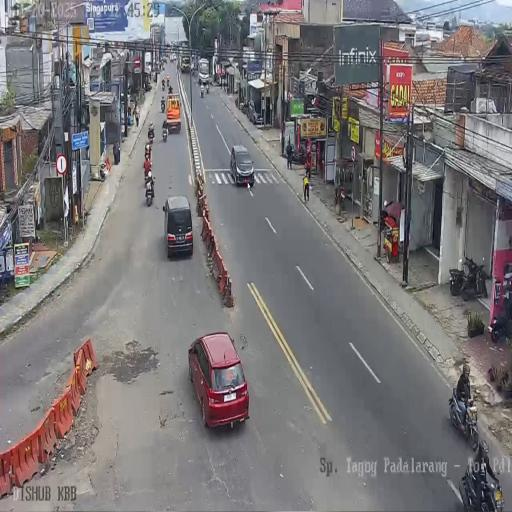3: (166, 93, 181, 134), (198, 58, 210, 84), (180, 53, 190, 74), (144, 51, 152, 77)
car: (187, 330, 250, 429), (161, 195, 192, 257), (230, 144, 255, 187), (247, 100, 263, 125), (170, 52, 176, 62), (161, 55, 167, 64)
truck: (450, 386, 479, 446), (461, 253, 487, 300), (488, 304, 510, 342), (286, 139, 306, 165), (449, 266, 465, 296), (144, 172, 155, 205), (240, 99, 250, 116), (162, 123, 168, 142), (160, 97, 166, 112), (148, 131, 154, 146), (200, 84, 204, 98), (161, 78, 165, 91), (158, 61, 162, 73), (153, 72, 157, 83), (191, 64, 195, 75), (168, 84, 172, 94), (206, 82, 209, 94)
